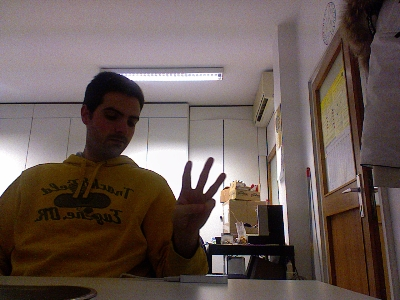三分: (169, 155, 226, 233)
